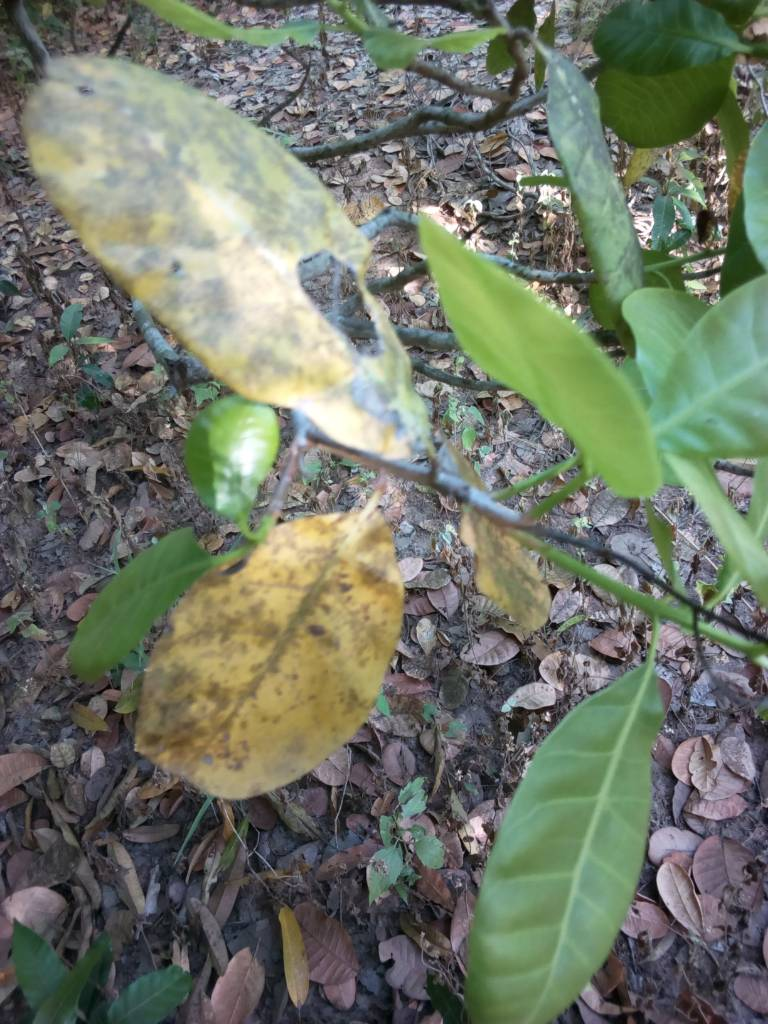Bactériose: (19, 44, 477, 488), (132, 513, 390, 799)
